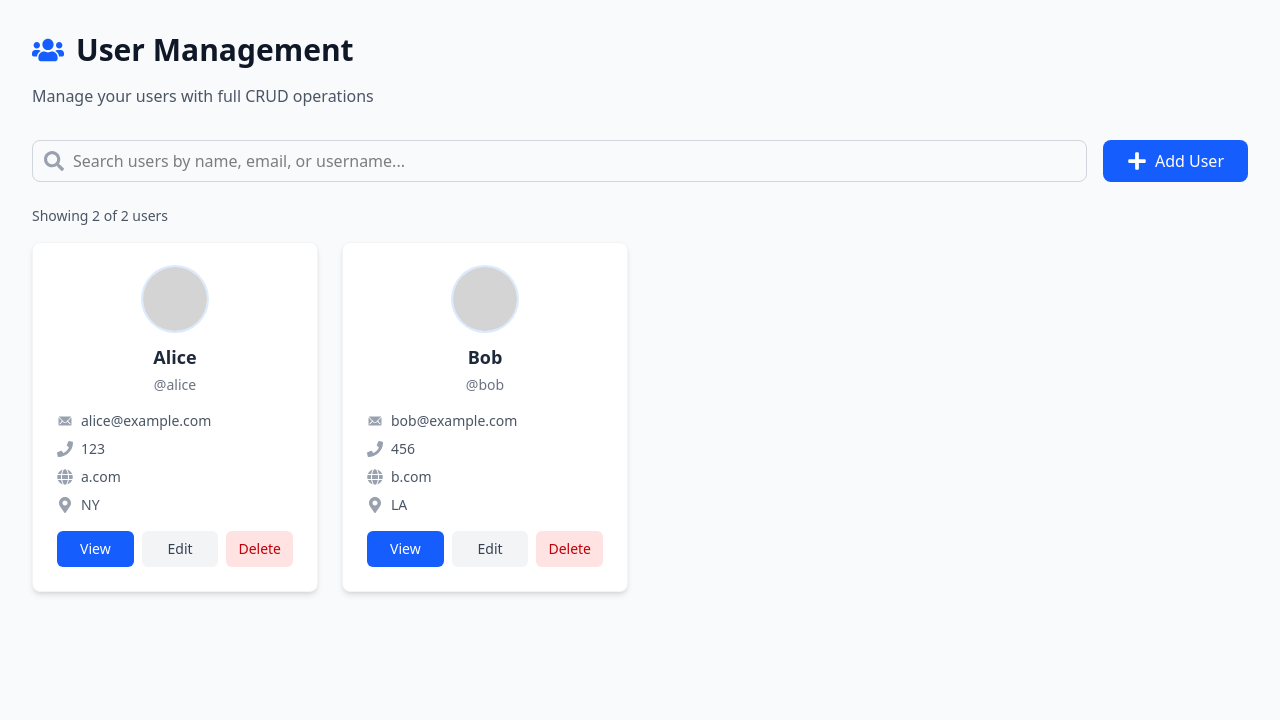
UserList › filters users based on search input
The width and height of the screenshot is (1280, 720).
In the field with placeholder "Search users by name, email, or username...": x=559, y=161 [32,140,1087,182], type "bob"
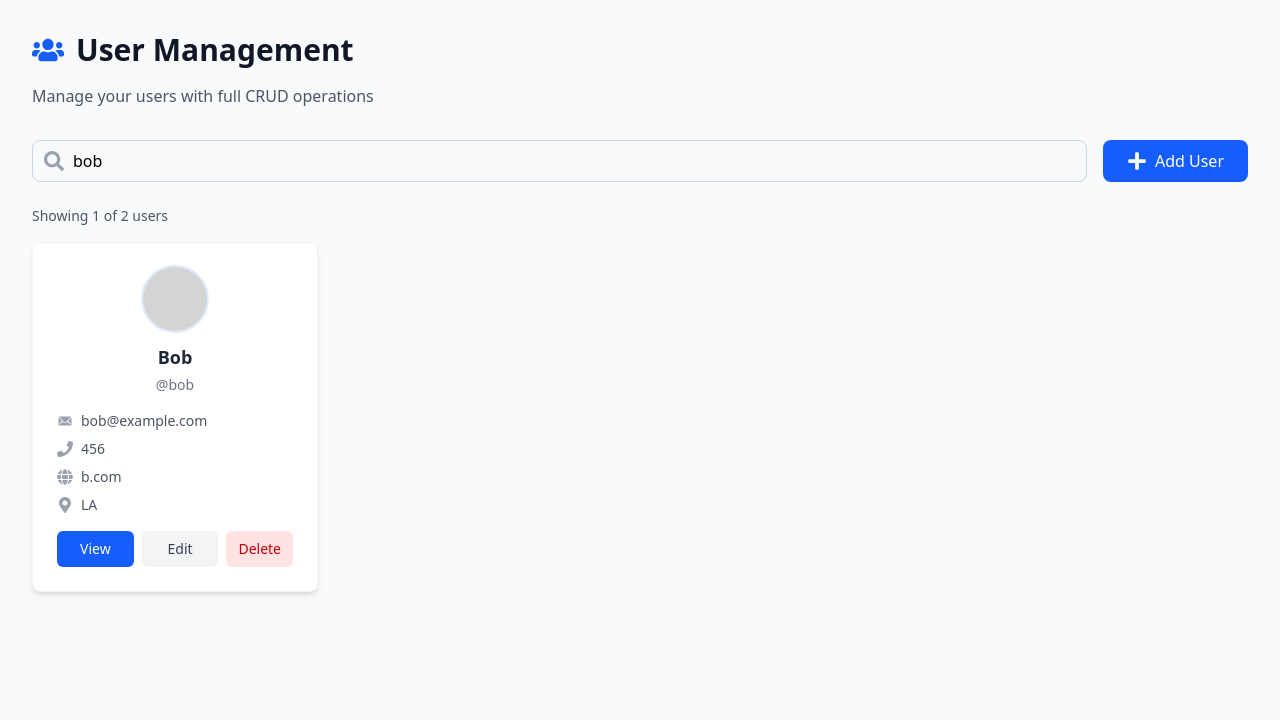
Expected: the heading "Bob" is shown, [158,343,192,371]
Expected: the heading "Alice" is gone
